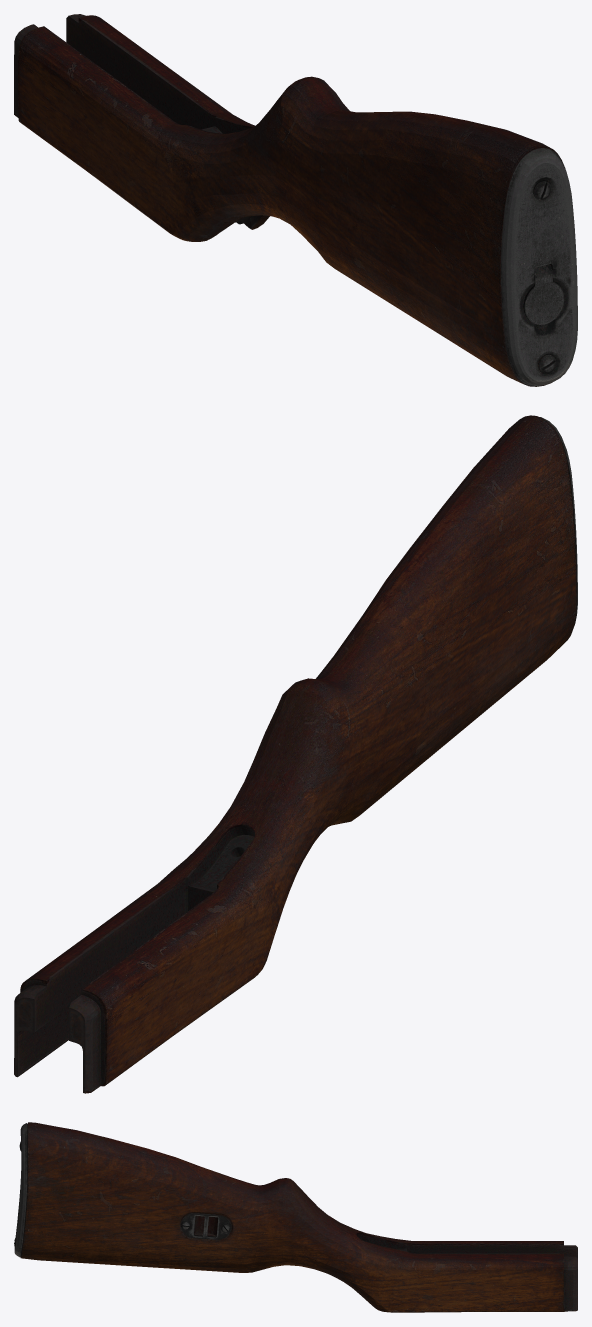
The picture shows the model from 3 angles, top to bottom: view 1: azimuth 30°, elevation 25°; view 2: azimuth 150°, elevation 25°; view 3: azimuth 270°, elevation 25°; orthographic projection. The views are drawn at different scales.
Parts seen in each view (by area): view 1: TW_5ea03e9400685063ec28bfa4_PZ_Import; view 2: TW_5ea03e9400685063ec28bfa4_PZ_Import; view 3: TW_5ea03e9400685063ec28bfa4_PZ_Import.
Part boxes in pixels (<box>): TW_5ea03e9400685063ec28bfa4_PZ_Import: <box>14,14,577,386</box>; TW_5ea03e9400685063ec28bfa4_PZ_Import: <box>14,415,577,1093</box>; TW_5ea03e9400685063ec28bfa4_PZ_Import: <box>14,1122,577,1312</box>.
Bounding box in the file's own units: 0.0273 × 0.2664 × 0.0929.
Materials: 1 (1 with a texture image).
